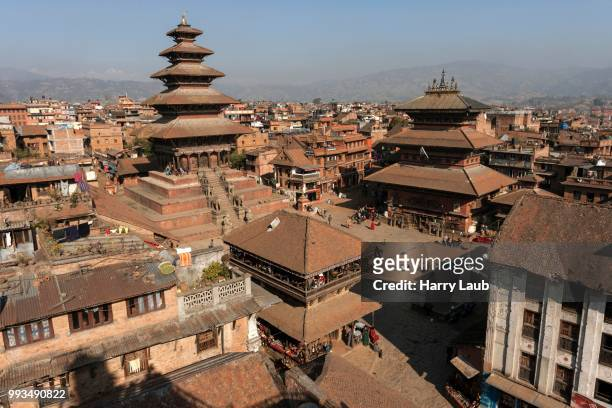nyathapola: (131, 6, 259, 217)
